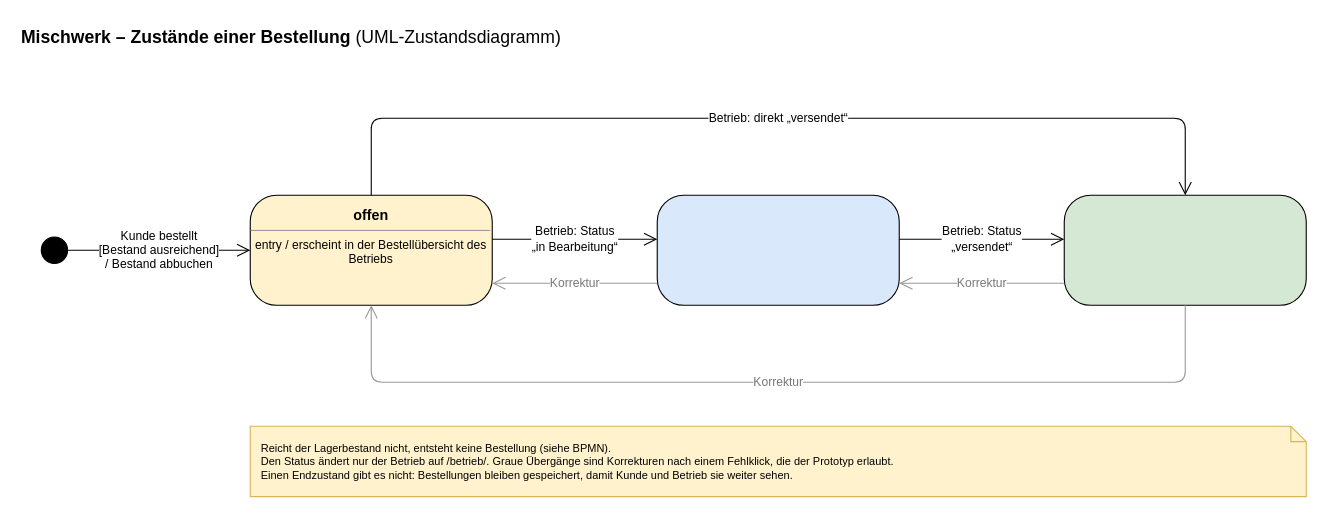
Image size: 1326x516. Some labels were removed from this diagram. Each missing label, with the centre of its shape:
"in Bearbeitung do / Mischung nach Rezeptur abfüllen" goes at pixel 777 249.
"versendet entry / Kunde sieht den Status unter „Mein Konto“" goes at pixel 1184 249.
